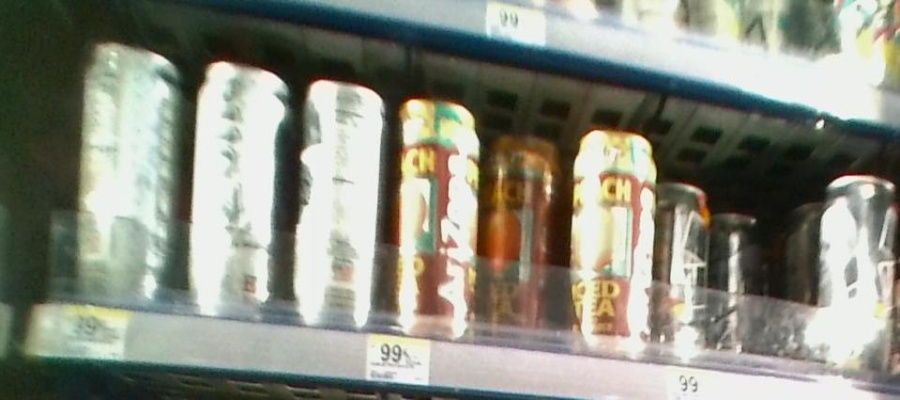bottle: (69, 22, 186, 308), (191, 28, 291, 327), (293, 53, 383, 332), (389, 75, 482, 339), (572, 125, 657, 357), (485, 103, 562, 341), (821, 162, 893, 393), (659, 169, 709, 363), (711, 189, 759, 367)
